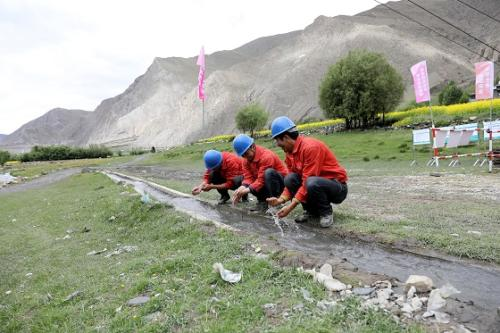boots: (320, 212, 333, 228), (295, 211, 311, 223), (249, 202, 268, 212), (218, 194, 230, 204)
hard-hat: (270, 115, 296, 139), (231, 134, 254, 157), (204, 149, 222, 169)
person: (265, 116, 348, 228), (231, 134, 288, 212), (192, 149, 248, 205)
vest: (279, 134, 348, 204), (240, 144, 288, 200), (200, 150, 247, 202)
